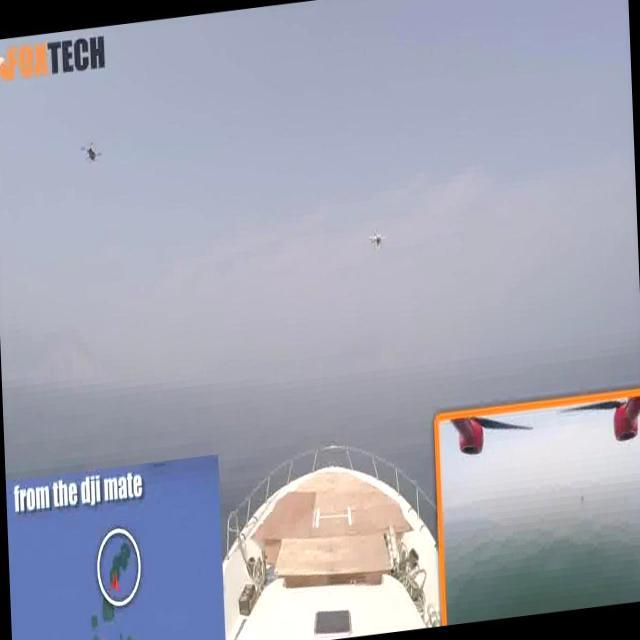drone: (76, 133, 104, 172), (368, 222, 388, 252)
